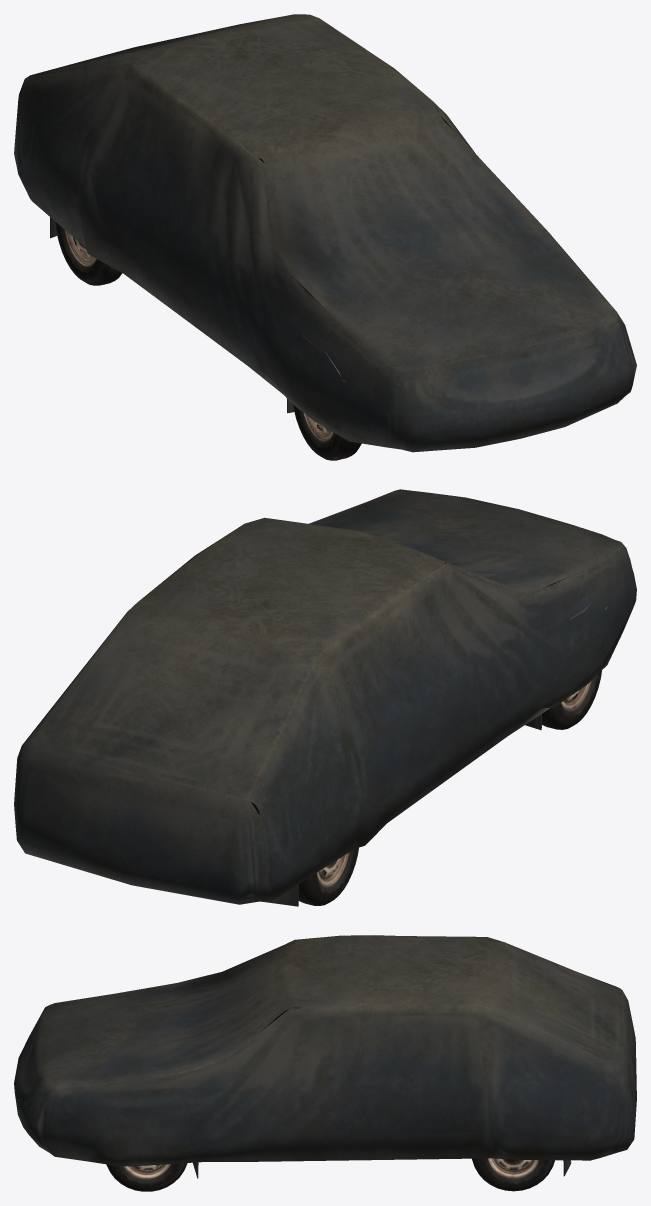
File: covered_car_2k.gltf
3 renders of one model, top to bottom at view 1: azimuth 30°, elevation 25°; view 2: azimuth 150°, elevation 25°; view 3: azimuth 270°, elevation 25°, orthographic. The views are drawn at different scales.
Parts seen in each view (by area): view 1: covered_car, covered_car_wheel_03, covered_car_wheel_02; view 2: covered_car, covered_car_wheel_03, covered_car_wheel_02; view 3: covered_car, covered_car_wheel_04, covered_car_wheel_01.
Boxes of the visible parts, x1,y1,x2,y2 form: covered_car: (14, 14, 636, 452); covered_car_wheel_03: (55, 222, 122, 285); covered_car_wheel_02: (293, 405, 361, 460); covered_car: (14, 489, 636, 906); covered_car_wheel_03: (298, 847, 358, 905); covered_car_wheel_02: (542, 670, 601, 729); covered_car: (14, 935, 636, 1178); covered_car_wheel_04: (472, 1158, 554, 1191); covered_car_wheel_01: (106, 1163, 187, 1191).
Size of the model in its own units: 1.79 by 1.41 by 4.38.
Materials: 2 (2 with a texture image).
